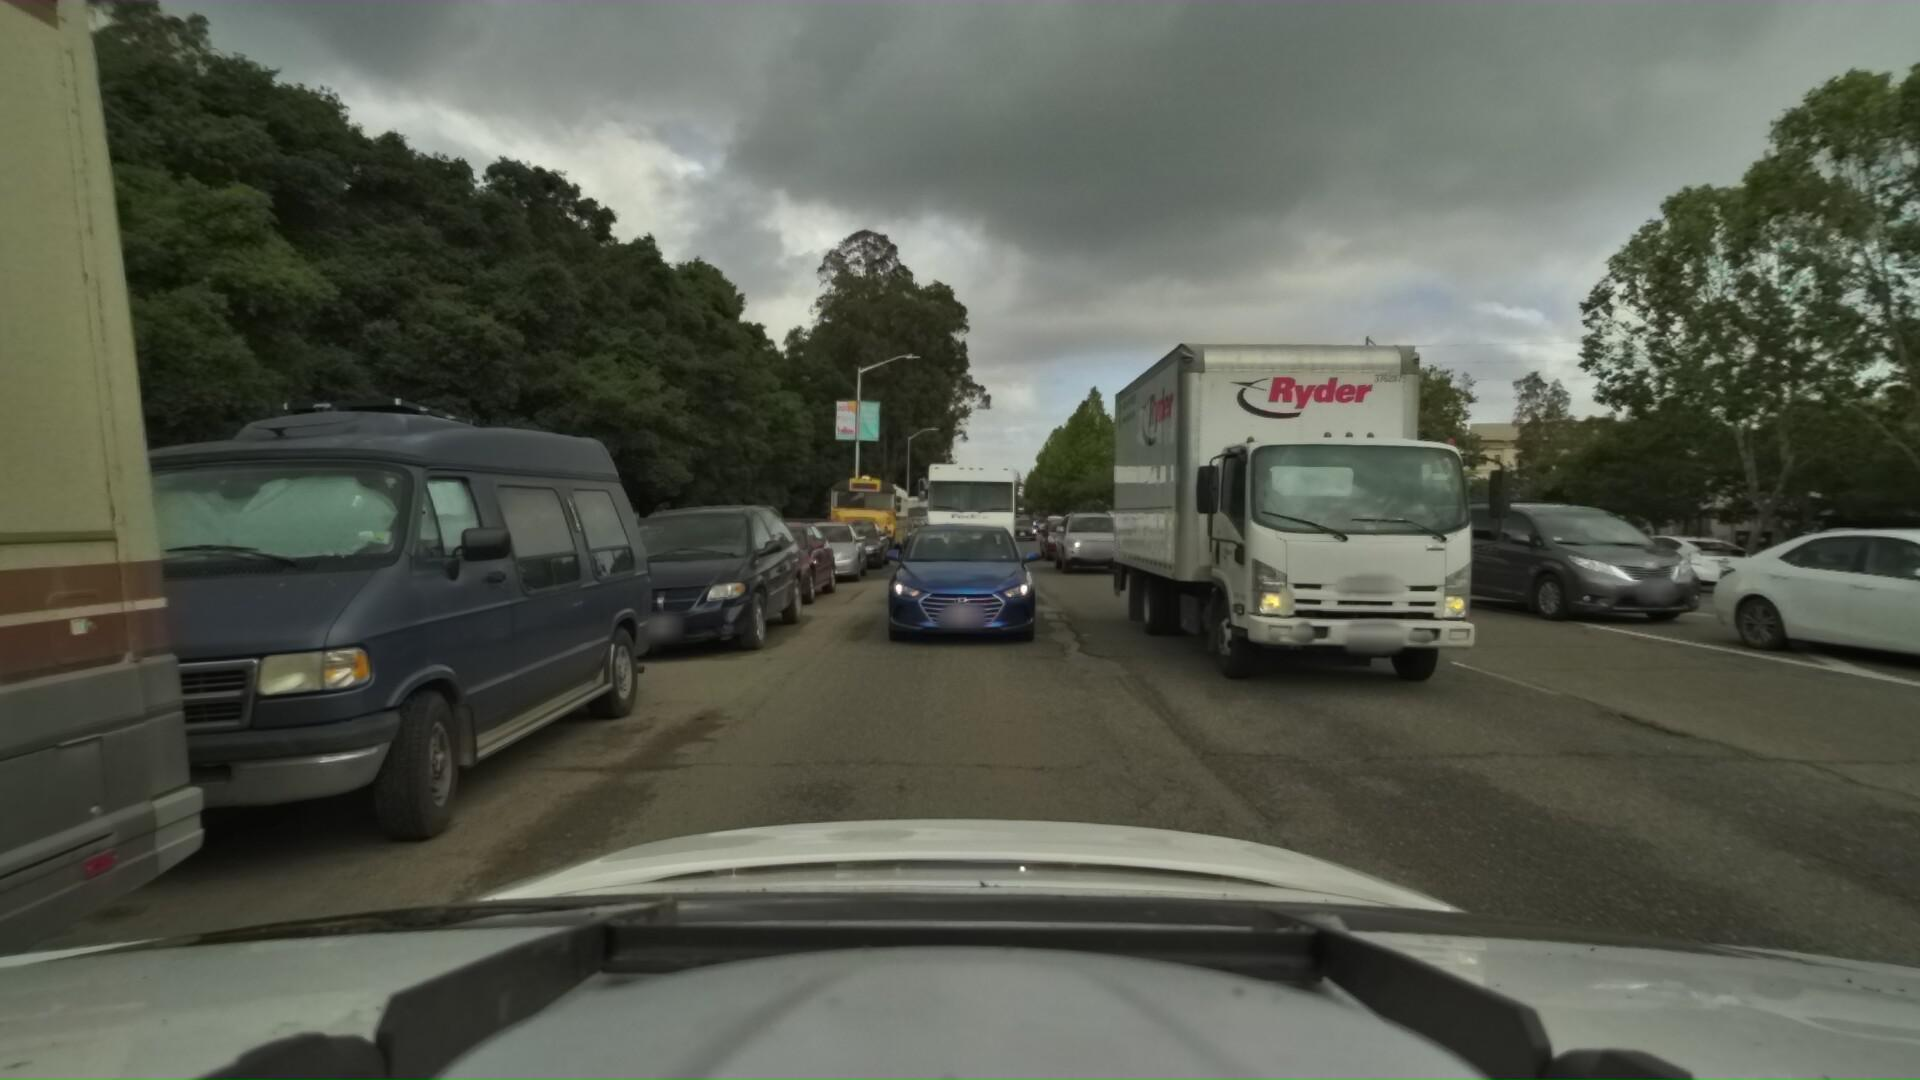bus: (818, 468, 913, 563)
car: (0, 392, 686, 924), (1671, 516, 1920, 703), (1396, 491, 1726, 628), (597, 501, 818, 673), (878, 517, 1044, 657), (1735, 520, 1920, 626), (1275, 489, 1461, 591), (703, 520, 847, 620), (1596, 529, 1762, 593), (782, 520, 872, 588), (1047, 506, 1133, 576), (825, 518, 891, 574), (1035, 513, 1095, 560), (873, 514, 916, 549), (1007, 512, 1040, 541)
other_vehicle: (898, 487, 936, 535)
truck: (1102, 276, 1524, 696), (920, 447, 1027, 583)
